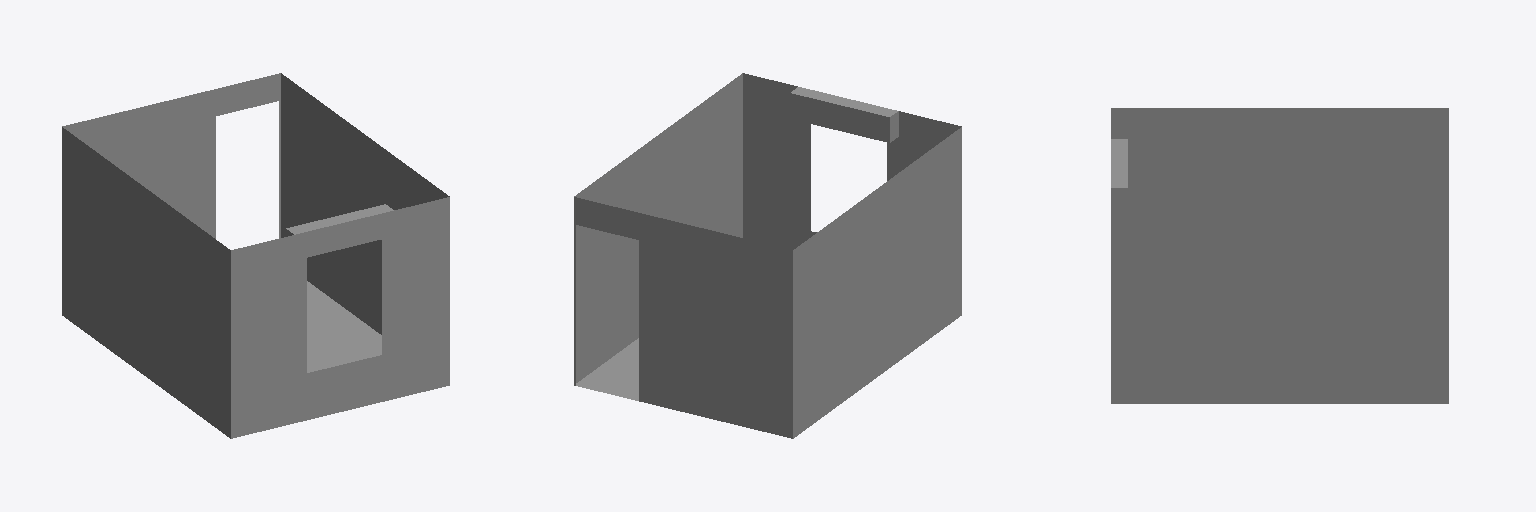
File: maison-test.obj
The picture shows the model from 3 angles: view 1: azimuth 30°, elevation 25°; view 2: azimuth 150°, elevation 25°; view 3: azimuth 270°, elevation 25°; orthographic projection.
Visible parts, largest first — view 1: Plane.001, Plane, Cube_Cube.001; view 2: Plane.001, Cube_Cube.001, Plane; view 3: Plane.001, Cube_Cube.001.
Boxes of the visible parts, box(x1,y1,x2,y2) form: Plane.001: box(62, 73, 449, 438); Plane: box(307, 281, 381, 372); Cube_Cube.001: box(286, 204, 393, 259); Plane.001: box(574, 73, 961, 438); Cube_Cube.001: box(790, 87, 898, 142); Plane: box(576, 338, 638, 400); Plane.001: box(1111, 108, 1448, 403); Cube_Cube.001: box(1111, 139, 1127, 213).
Bounding box in the file's own units: 2.92 × 2.4 × 3.9.